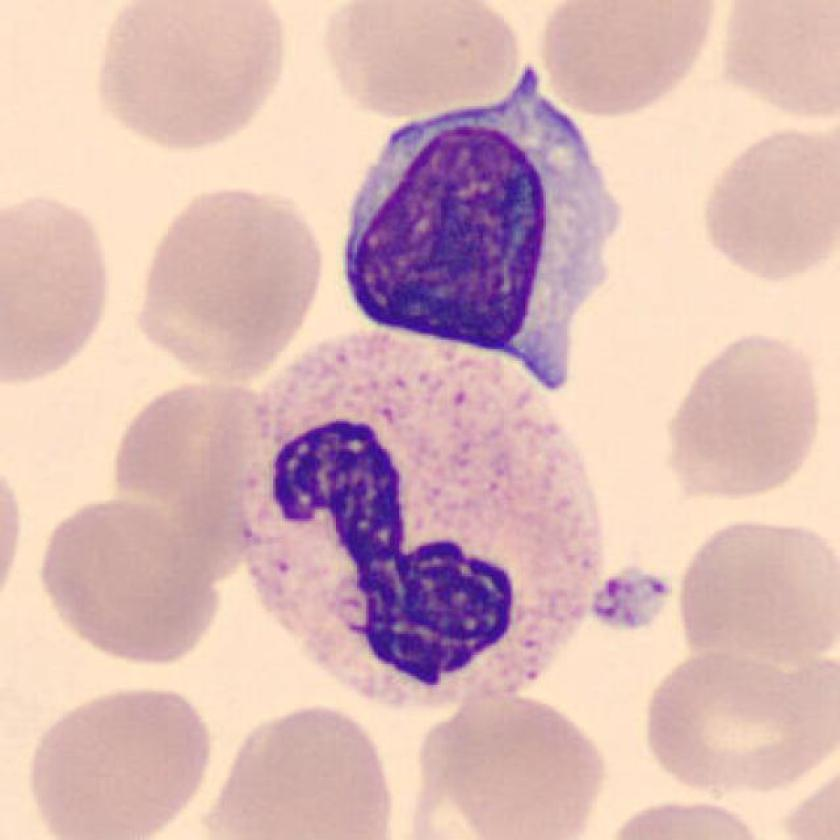lymphocyte: (343, 69, 621, 386)
neutrophil: (241, 329, 602, 709)
